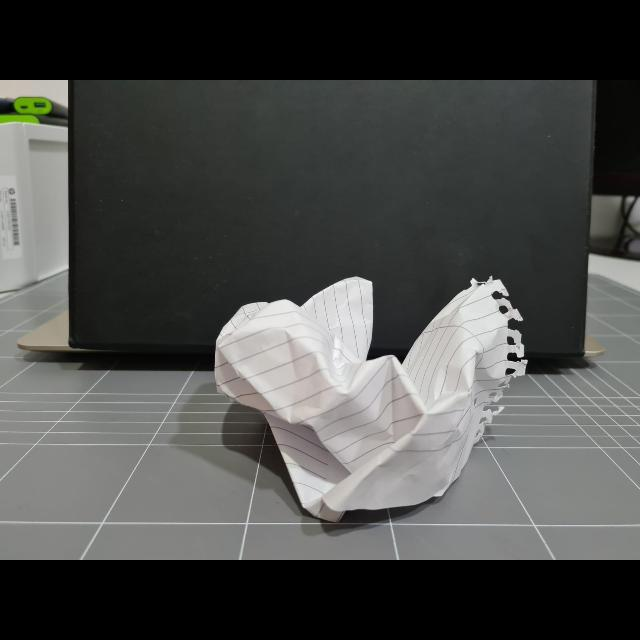trash: (213, 284, 527, 504)
